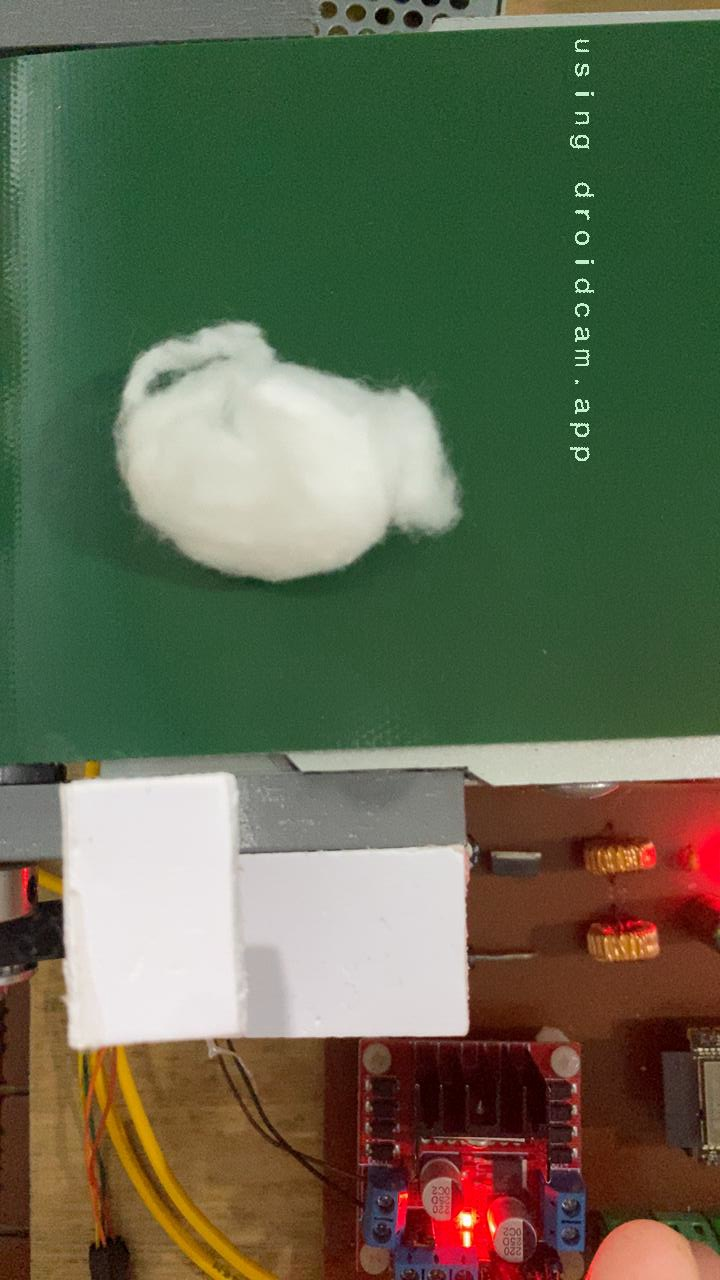cotton: (106, 316, 467, 588)
